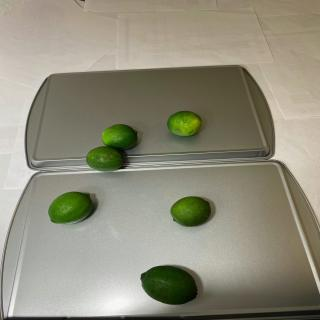Apple: (170, 196, 212, 227)
Chilli: (140, 265, 198, 305)
Lemon: (48, 192, 93, 224), (85, 146, 124, 172), (102, 124, 138, 150), (167, 110, 202, 136)
